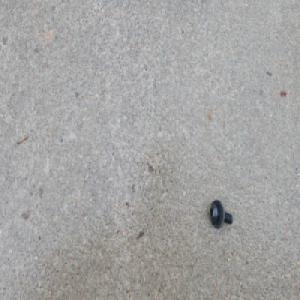BoltWasher: (210, 196, 235, 227)
